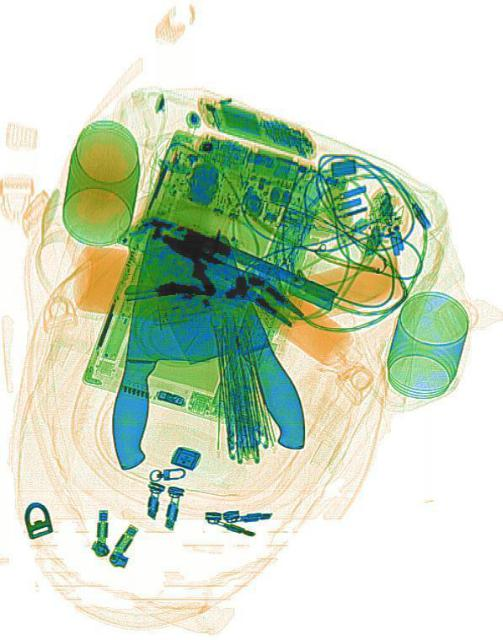Knife: (137, 206, 316, 484), (103, 228, 231, 482)
